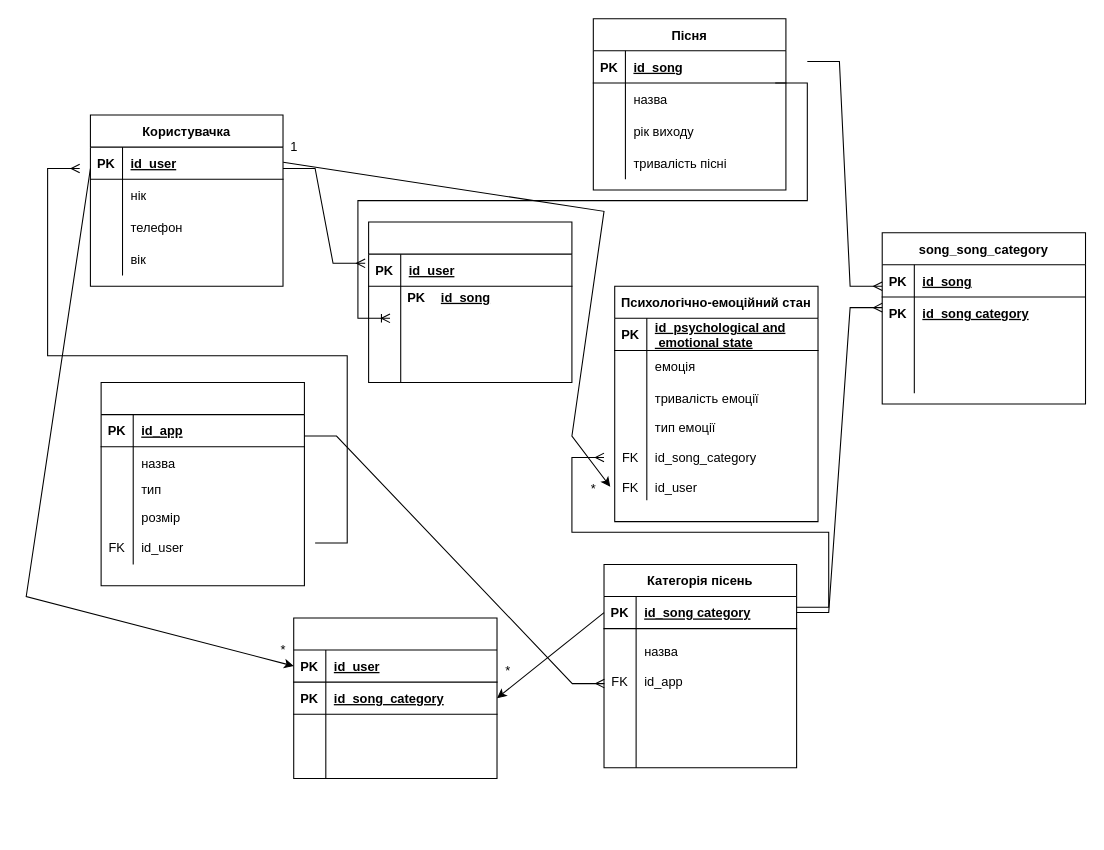
Some shapes in this 1104 by 850 pixel diagram are drawn without their labels. The box of each missing label's shape, as (x1, y1, x2, y2) in pixels:
user_song: (368, 221, 572, 383)
user_song_category: (293, 617, 497, 778)
Додаток: (100, 381, 304, 586)
